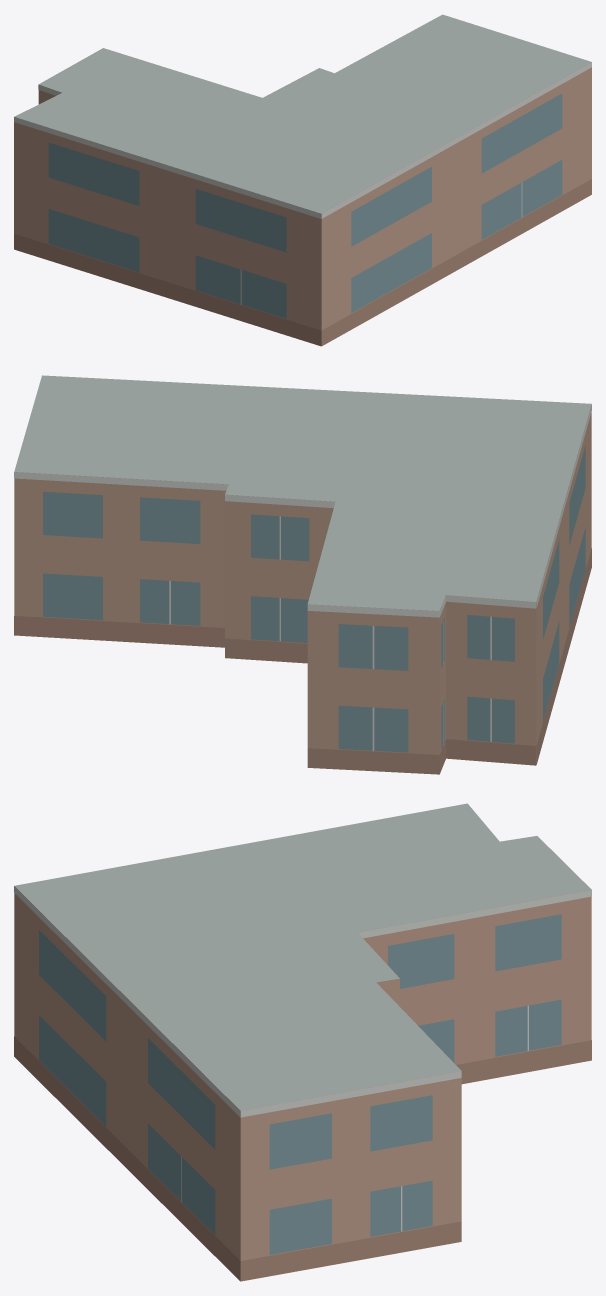
File: survey-upis-32615097.glb
3 views of the same model, one above another, from view 1: azimuth 30°, elevation 25°; view 2: azimuth 150°, elevation 25°; view 3: azimuth 270°, elevation 25° (orthographic). The views are drawn at different scales.
Visible parts, largest first — view 1: survey-upis-32615097.tmp; view 2: survey-upis-32615097.tmp; view 3: survey-upis-32615097.tmp.
Boxes of the visible parts, left/top/right/bottom form: survey-upis-32615097.tmp: left=14, top=14, right=591, bottom=346; survey-upis-32615097.tmp: left=14, top=375, right=591, bottom=774; survey-upis-32615097.tmp: left=14, top=803, right=591, bottom=1281.
Bounding box in the file's own units: 23.56 × 6.1 × 18.72.
